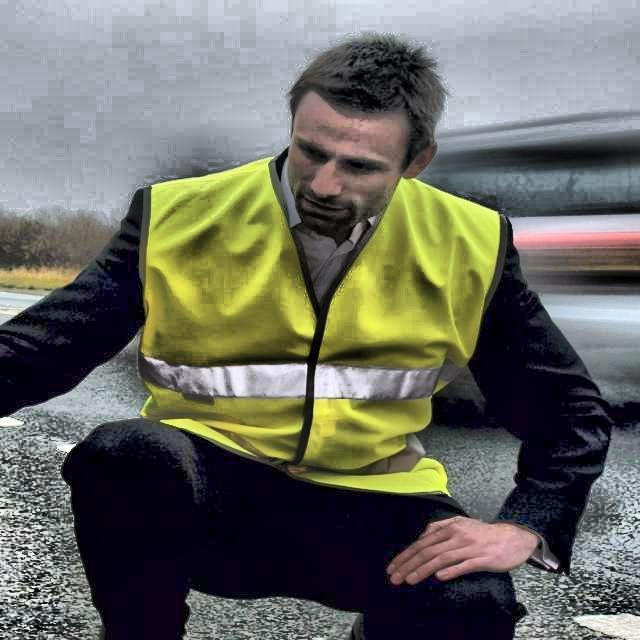safety_jacket: (123, 164, 510, 508)
